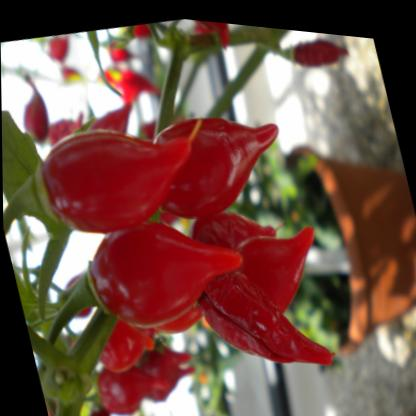--: (7, 176, 260, 375), (1, 60, 223, 274)
